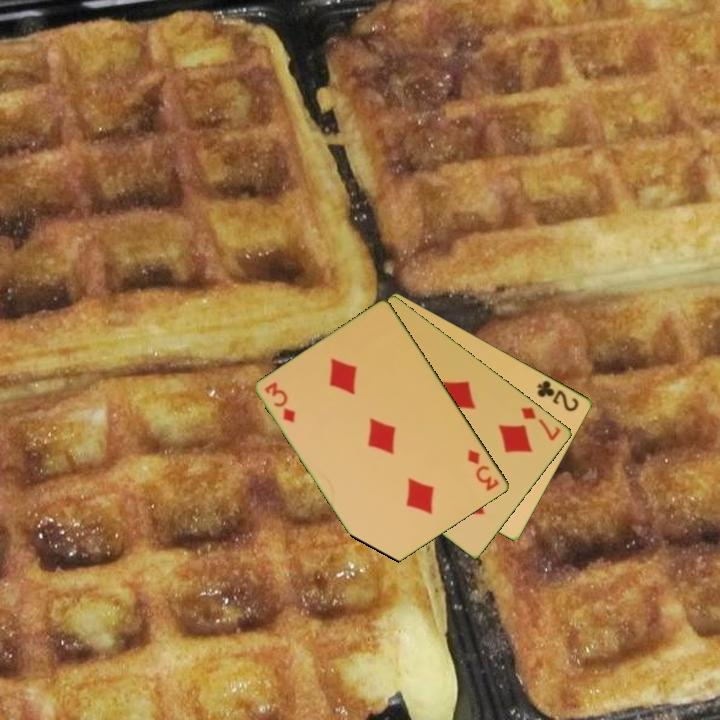2c: (534, 376, 582, 415)
3d: (464, 446, 502, 494), (261, 378, 299, 426)
7d: (517, 403, 564, 444)
